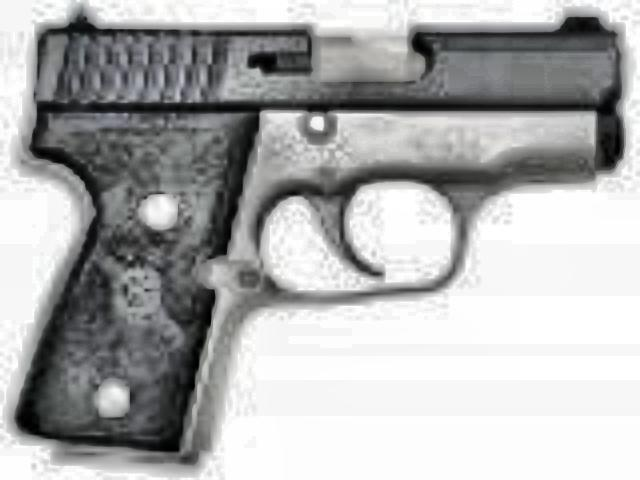pistol: (24, 4, 624, 460)
